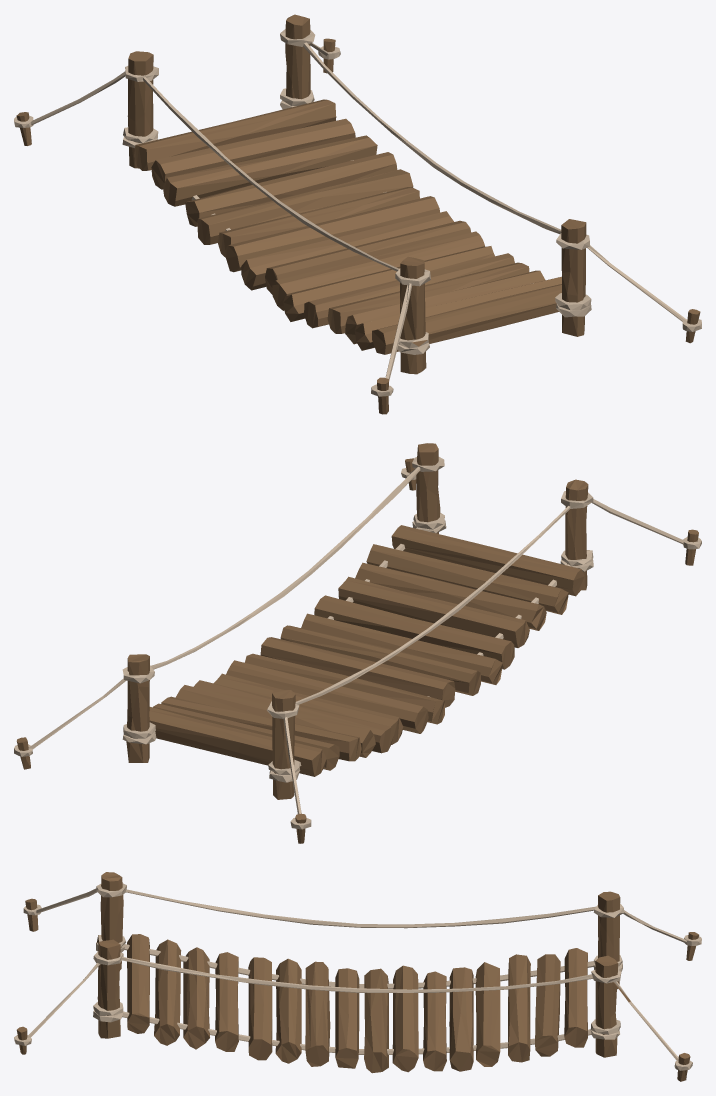
File: bridge.obj
3 views of the same model, one above another, from view 1: azimuth 30°, elevation 25°; view 2: azimuth 150°, elevation 25°; view 3: azimuth 270°, elevation 25° (orthographic). The views are drawn at different scales.
Parts seen in each view (by area): view 1: Rope_Bridge; view 2: Rope_Bridge; view 3: Rope_Bridge.
Boxes of the visible parts, x1,y1,x2,y2 form: Rope_Bridge: (14,14,701,414); Rope_Bridge: (14,443,701,843); Rope_Bridge: (14,872,701,1081).
Bounding box in the file's own units: 3.33 × 1.27 × 6.69.
